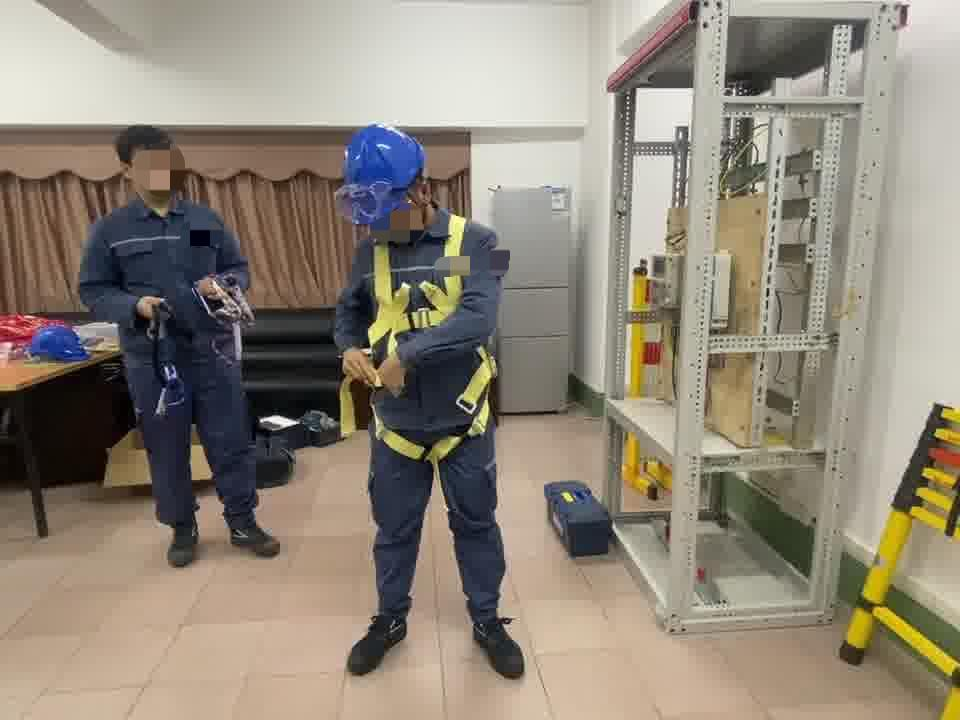halt: (341, 128, 432, 235)
inear: (405, 177, 438, 216)
unhalt: (118, 129, 186, 207)
